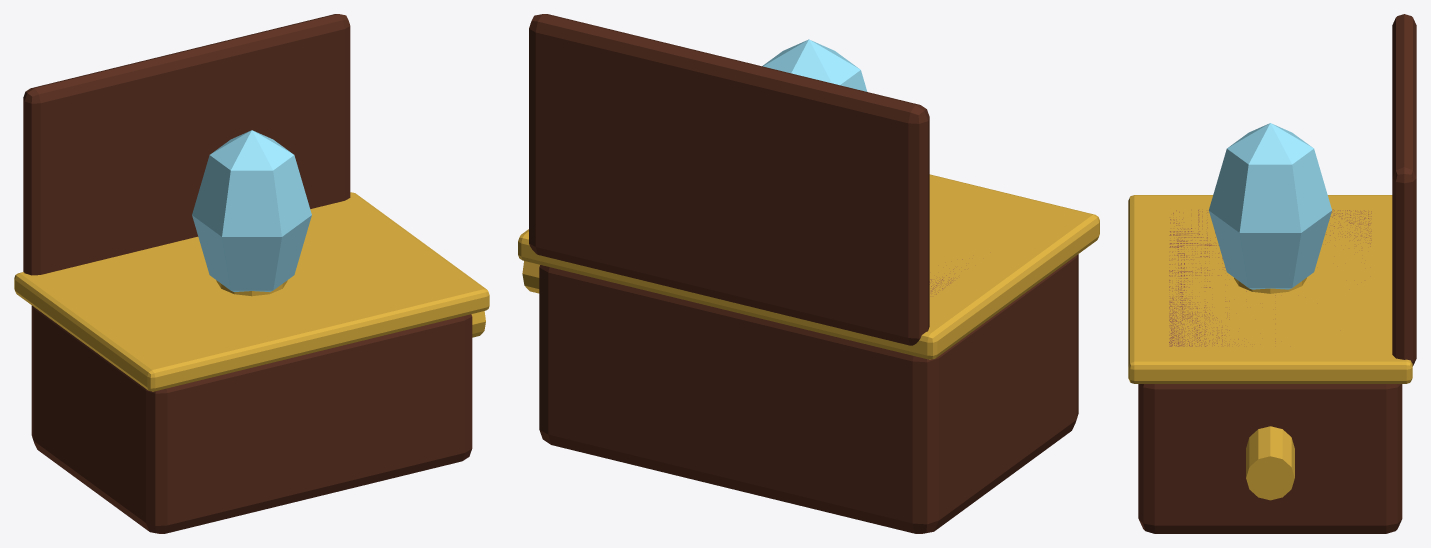
Rendered from CrystalMusicBox.fbx.
3 views of the same model, side by side, from view 1: azimuth 30°, elevation 25°; view 2: azimuth 150°, elevation 25°; view 3: azimuth 270°, elevation 25° (orthographic). The views are drawn at different scales.
Parts seen in each view (by area): view 1: Box, Lid, Trim, Crystal; view 2: Lid, Box, Trim, Crystal; view 3: Trim, Box, Crystal, Lid, Key, Velvet.
Boxes of the visible parts, x1,y1,x2,y2 form: Box: [31, 305, 472, 533]; Lid: [23, 14, 350, 275]; Trim: [14, 192, 489, 391]; Crystal: [192, 130, 311, 291]; Lid: [529, 14, 929, 345]; Box: [539, 254, 1078, 533]; Trim: [518, 174, 1099, 359]; Crystal: [762, 39, 867, 91]; Trim: [1128, 195, 1412, 383]; Box: [1138, 384, 1402, 533]; Crystal: [1208, 123, 1331, 289]; Lid: [1392, 14, 1416, 366]; Key: [1246, 426, 1294, 500]; Velvet: [1169, 209, 1371, 346].
Size of the model in its own units: 2.3 by 2 by 1.42.
